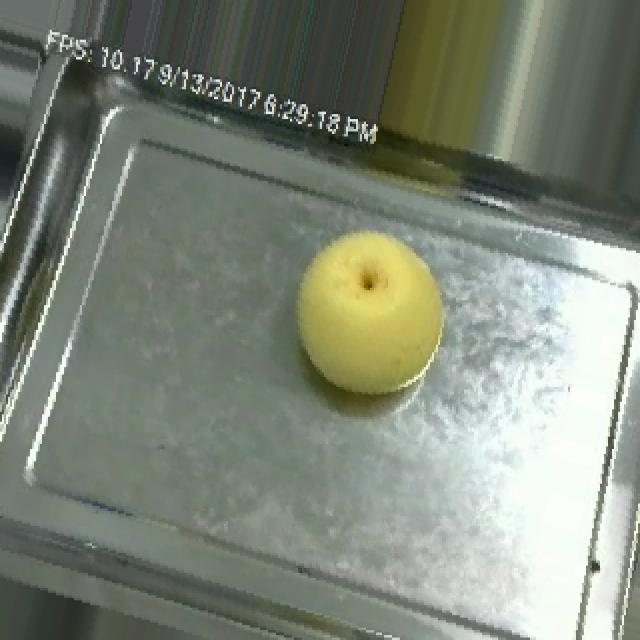Fruit: (264, 203, 468, 420)
